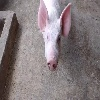heo: (36, 1, 73, 73)
